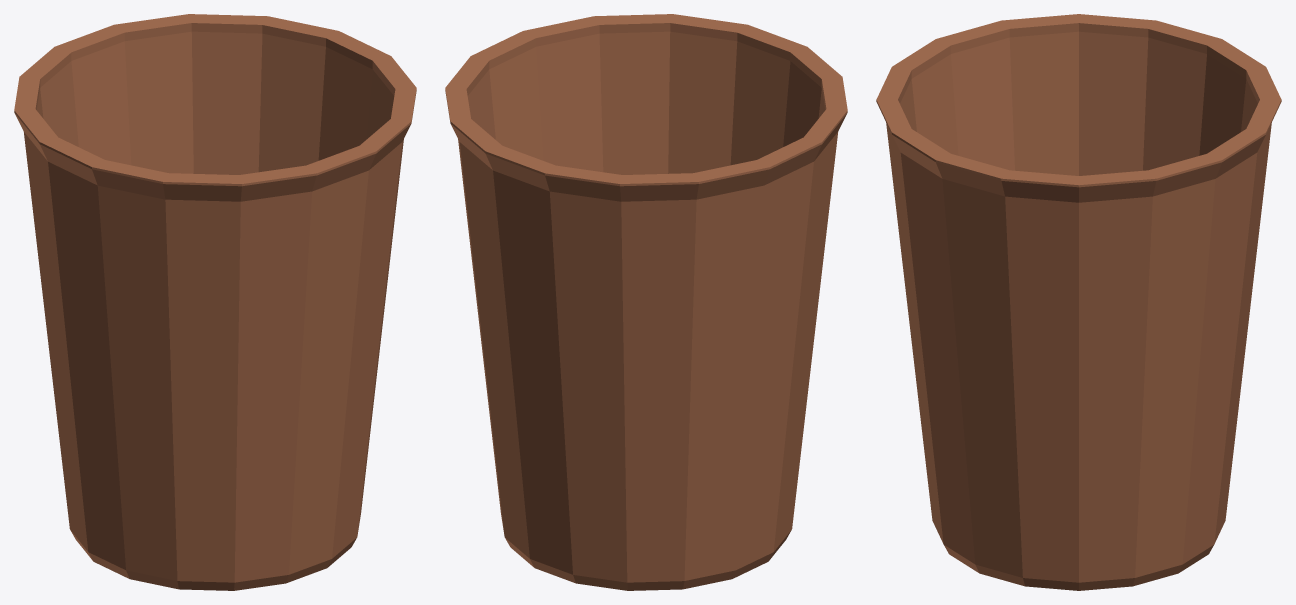
Rendered from flower_pot_large.glb.
3 renders of one model, left to right at view 1: azimuth 30°, elevation 25°; view 2: azimuth 150°, elevation 25°; view 3: azimuth 270°, elevation 25°, orthographic.
Parts seen in each view (by area): view 1: flower_pot_large; view 2: flower_pot_large; view 3: flower_pot_large.
Boxes of the visible parts, x1,y1,x2,y2 form: flower_pot_large: (14, 14, 416, 590); flower_pot_large: (445, 14, 847, 590); flower_pot_large: (876, 14, 1281, 590).
Bounding box in the file's own units: 0.34 × 0.4 × 0.34.
